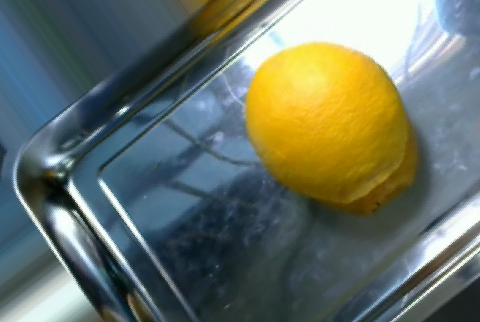Orange: (246, 42, 409, 203)
